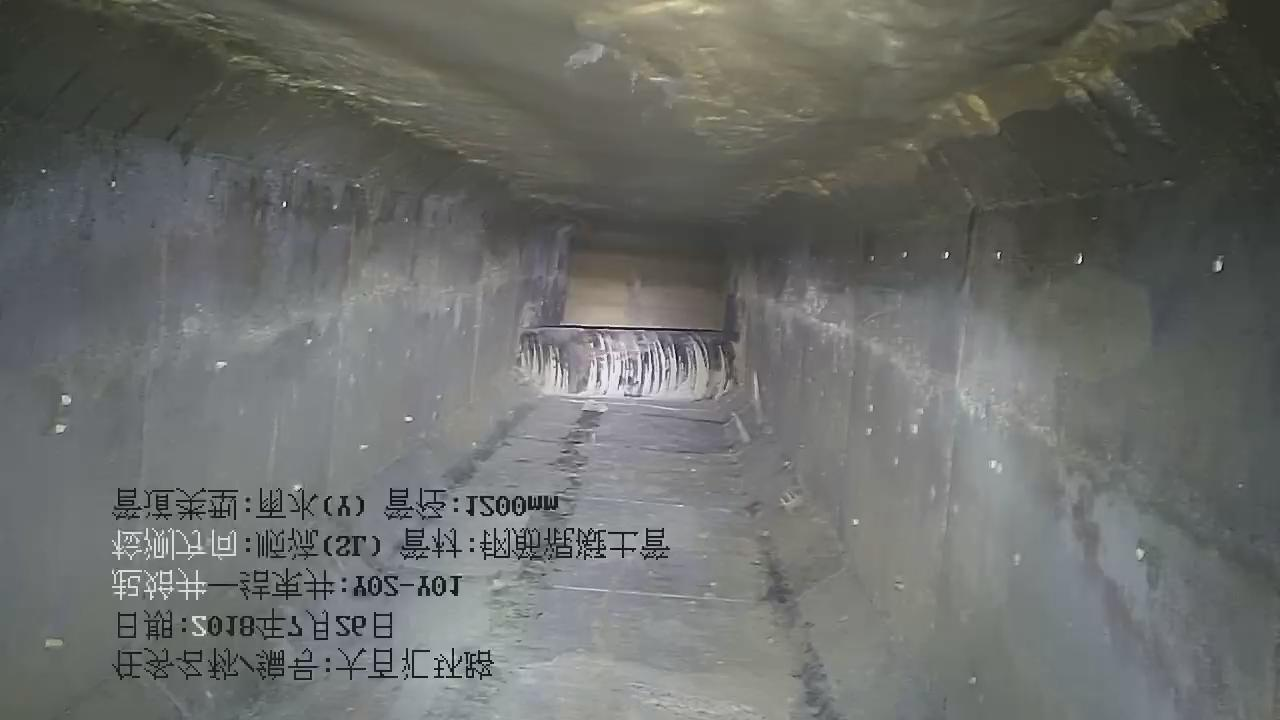YWCR: (517, 326, 733, 402)
